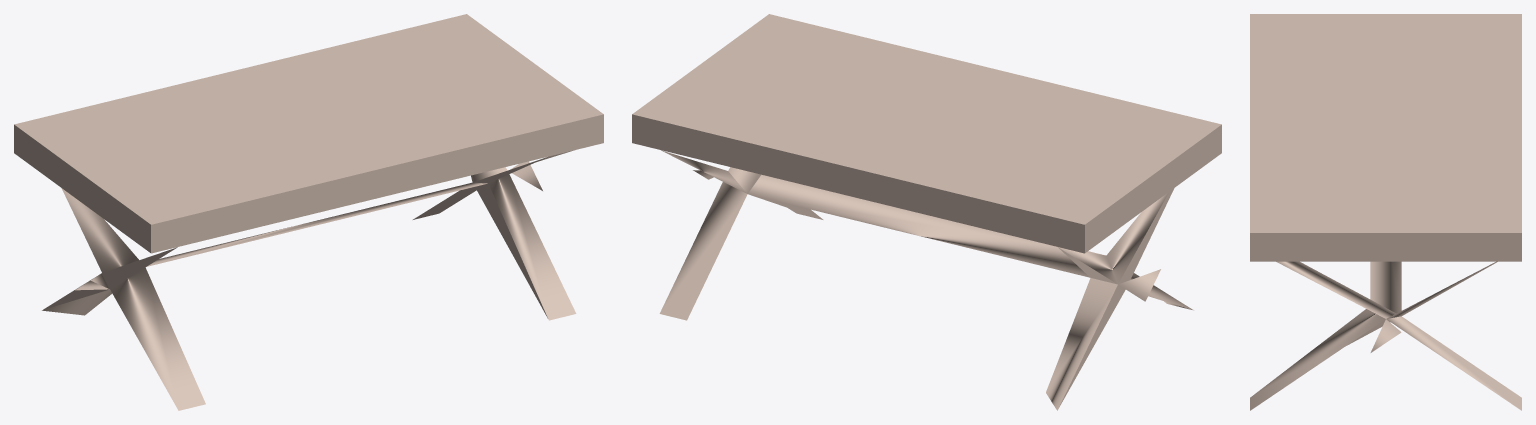
File: tableCross.glb
3 views of the same model, side by side, from view 1: azimuth 30°, elevation 25°; view 2: azimuth 150°, elevation 25°; view 3: azimuth 270°, elevation 25° (orthographic).
Visible parts, largest first — view 1: tableCross(Clone); view 2: tableCross(Clone); view 3: tableCross(Clone).
Part boxes in pixels (<box>): tableCross(Clone): <box>14,14,603,410</box>; tableCross(Clone): <box>632,14,1221,410</box>; tableCross(Clone): <box>1250,14,1521,410</box>.
Bounding box in the file's own units: 0.8521 × 0.3469 × 0.4469.
